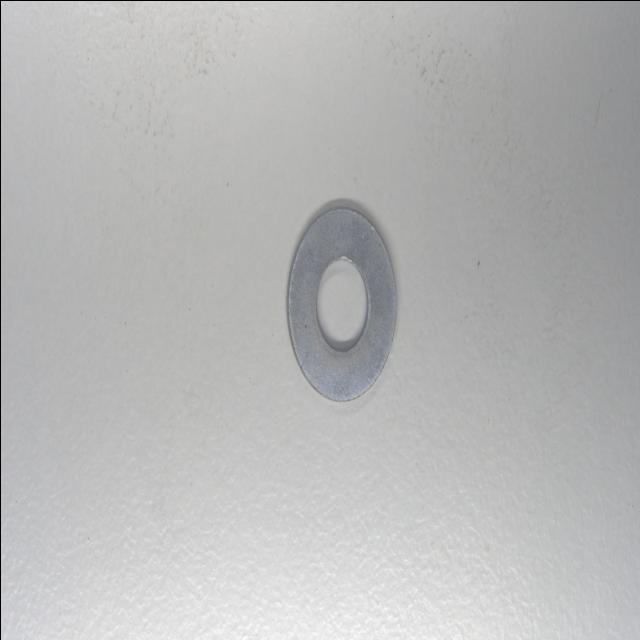washer: (285, 205, 399, 408)
